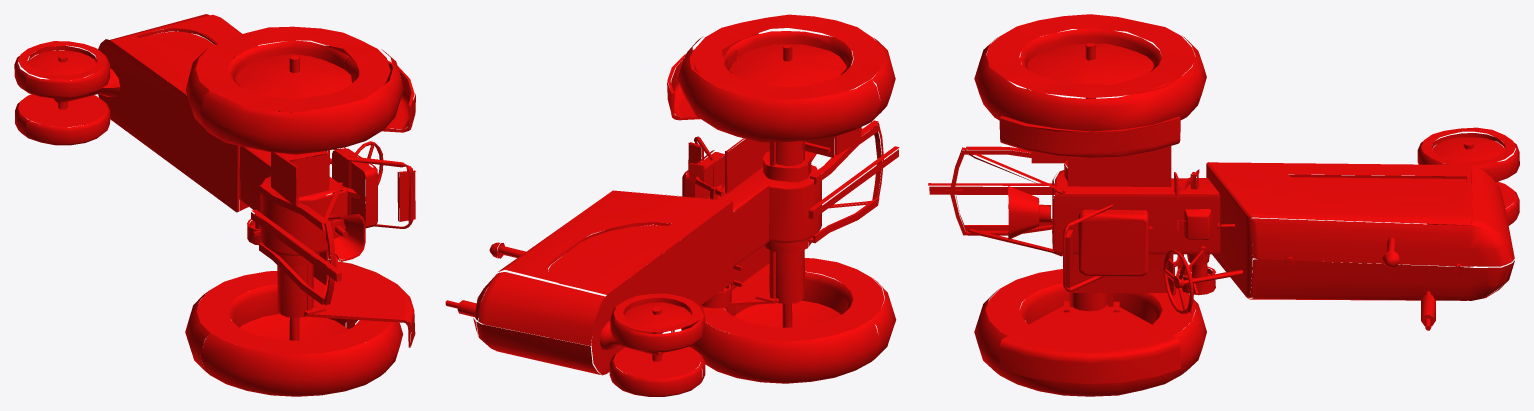
The picture shows the model from 3 angles, left to right: view 1: azimuth 30°, elevation 25°; view 2: azimuth 150°, elevation 25°; view 3: azimuth 270°, elevation 25°; orthographic projection. The views are drawn at different scales.
Parts seen in each view (by area): view 1: Renderer Node; view 2: Renderer Node; view 3: Renderer Node.
Boxes of the visible parts, x1=… form: Renderer Node: x1=14, y1=14, x2=415, y2=396; Renderer Node: x1=445, y1=14, x2=899, y2=396; Renderer Node: x1=928, y1=14, x2=1519, y2=396.
Bounding box in the file's own units: 1.13 × 1.21 × 2.02.
1 material, 1 textured.
